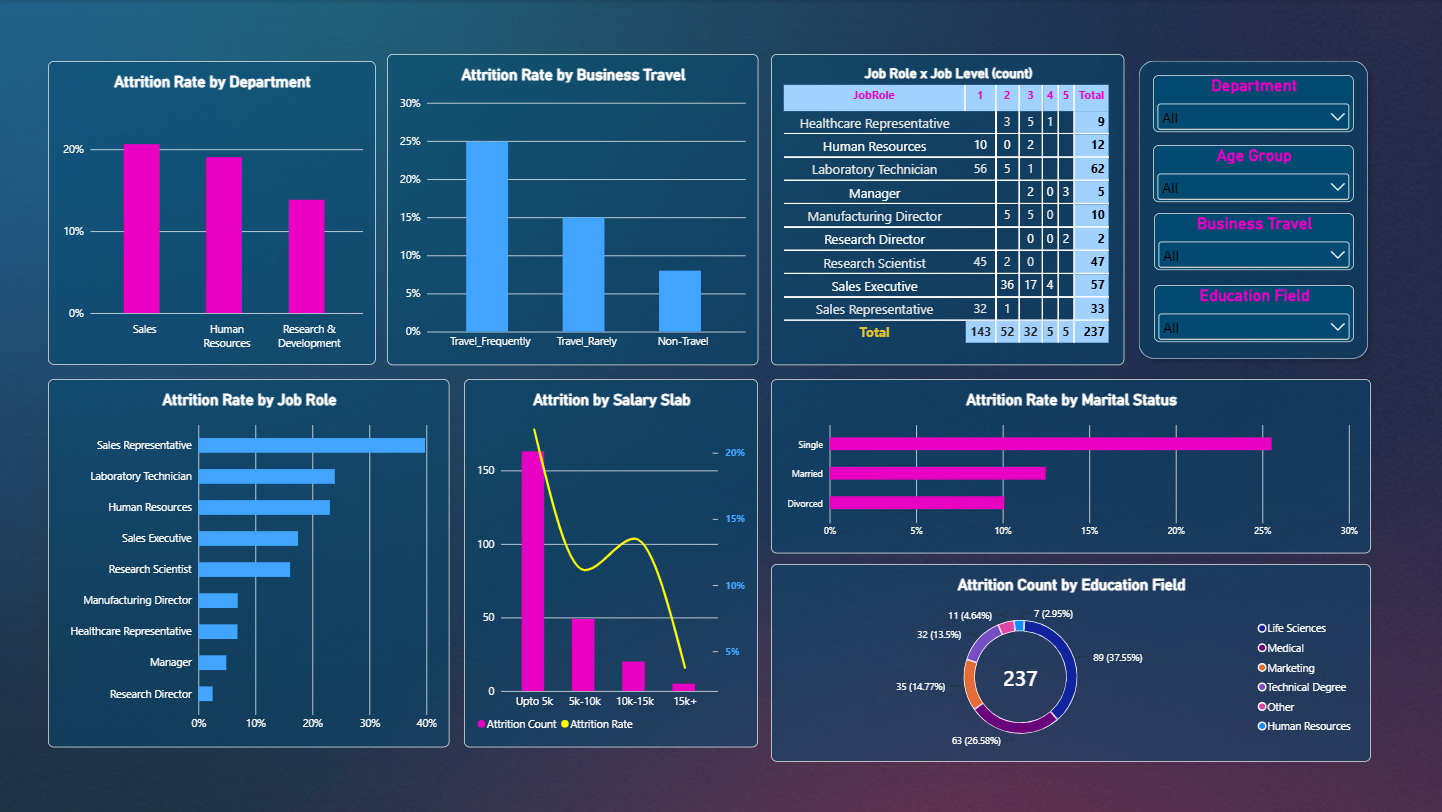

The page's visual inventory and layout, read from the dashboard file:
{"tool":"powerbi","page":{"name":"Attrition Breakdown","canvas":[1920,1080],"ordinal":1},"visuals":[{"type":"columnChart","title":"Attrition Rate by Department","fields":{"Category":["HR.Department"],"Y":["HR.Attrition Rate"]},"box":[65.7,81.4,435.7,404.3],"z":0},{"type":"barChart","title":"Attrition Rate by Job Role","fields":{"Category":["HR.JobRole"],"Y":["HR.Attrition Rate"]},"box":[65.7,504.3,534.3,490],"z":1000},{"type":"pivotTable","title":"Job Role x Job Level (count)","fields":{"Columns":["HR.JobLevel"],"Rows":["HR.JobRole"],"Values":["HR.Attrition Count"]},"box":[1027.1,71.4,470,414.3],"z":2000},{"type":"lineStackedColumnComboChart","title":"Attrition by Salary Slab","fields":{"Category":["HR.SalarySlab"],"Y":["HR.Attrition Count"],"Y2":["HR.Attrition Rate"]},"box":[618.6,504.3,391.4,490],"z":3000},{"type":"columnChart","title":"Attrition Rate by Business Travel","fields":{"Category":["HR.BusinessTravel"],"Y":["HR.Attrition Rate"]},"box":[515.7,71.4,494.3,414.3],"z":4000},{"type":"barChart","title":"Attrition Rate by Marital Status","fields":{"Category":["HR.MaritalStatus"],"Y":["HR.Attrition Rate"]},"box":[1026.9,504.6,797.7,232.3],"z":5000},{"type":"donutChart","title":"Attrition Count by Education Field","fields":{"Category":["HR.EducationField"],"Y":["HR.Attrition Count"]},"box":[1026.9,750,797.7,263.1],"z":6000},{"type":"shape","box":[1507.1,71.4,322.9,414.3],"z":7000},{"type":"slicer","title":"Department","fields":{"Values":["HR.Department"]},"box":[1534.6,100,267.1,75.7],"z":8000},{"type":"slicer","title":"Age Group","fields":{"Values":["HR.AgeGroup"]},"box":[1534.6,192.3,267.1,75.7],"z":9000},{"type":"slicer","title":"Business Travel","fields":{"Values":["HR.BusinessTravel"]},"box":[1536.2,283.8,265.7,75.7],"z":10000},{"type":"slicer","title":"Education Field","fields":{"Values":["HR.EducationField"]},"box":[1536.2,378.5,265.7,75.7],"z":11000}]}

Visuals, with their boxes in screenshot pixels (x1, y1, x2, y2), scaled from the page's 1920x1080 canvas onto the 1442x812 screenshot:
"Attrition Rate by Department" columnChart: 49 61 377 365
"Attrition Rate by Job Role" barChart: 49 379 451 748
"Job Role x Job Level (count)" pivotTable: 771 54 1124 365
"Attrition by Salary Slab" lineStackedColumnComboChart: 465 379 759 748
"Attrition Rate by Business Travel" columnChart: 387 54 759 365
"Attrition Rate by Marital Status" barChart: 771 379 1370 554
"Attrition Count by Education Field" donutChart: 771 564 1370 762
shape: 1132 54 1374 365
"Department" slicer: 1153 75 1353 132
"Age Group" slicer: 1153 145 1353 201
"Business Travel" slicer: 1154 213 1353 270
"Education Field" slicer: 1154 285 1353 341
